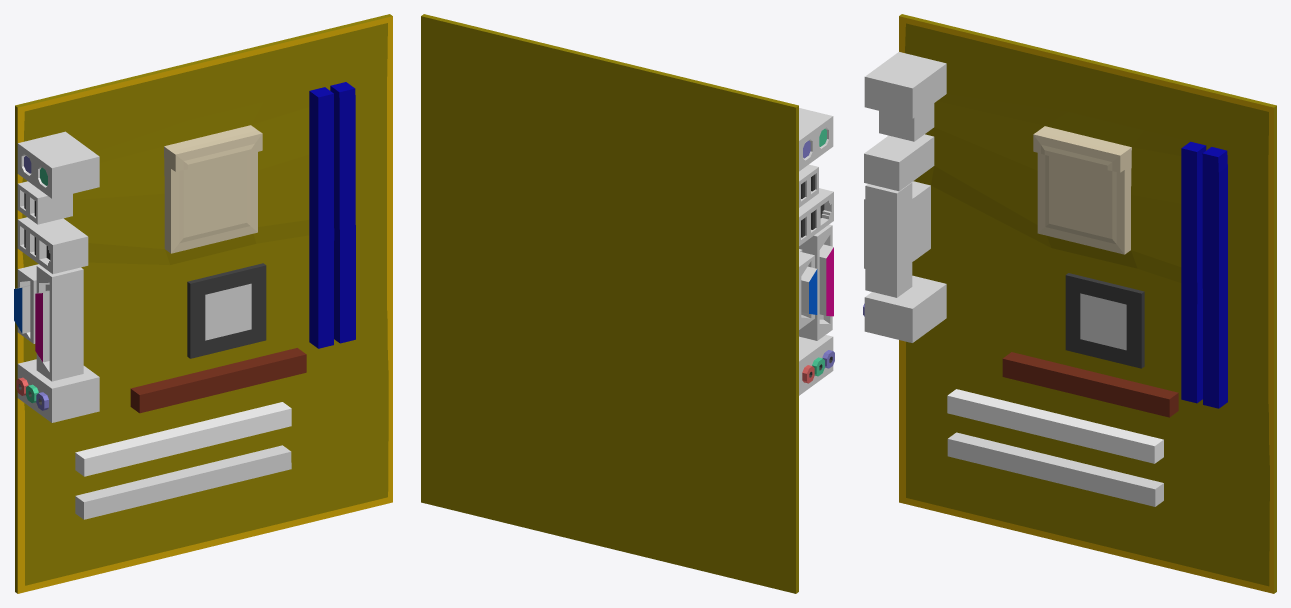
The model's file is mobo_s478_1-intel.fbx.
The picture shows the model from 3 angles, left to right: view 1: azimuth 30°, elevation 25°; view 2: azimuth 150°, elevation 25°; view 3: azimuth 330°, elevation 25°; orthographic projection.
Parts seen in each view (by area): view 1: Plane; view 2: Plane; view 3: Plane.
Boxes of the visible parts, <box> form: Plane: <box>14,14,392,593</box>; Plane: <box>421,14,834,593</box>; Plane: <box>863,14,1276,593</box>.
Size of the model in its own units: 160 by 195 by 27.57.
